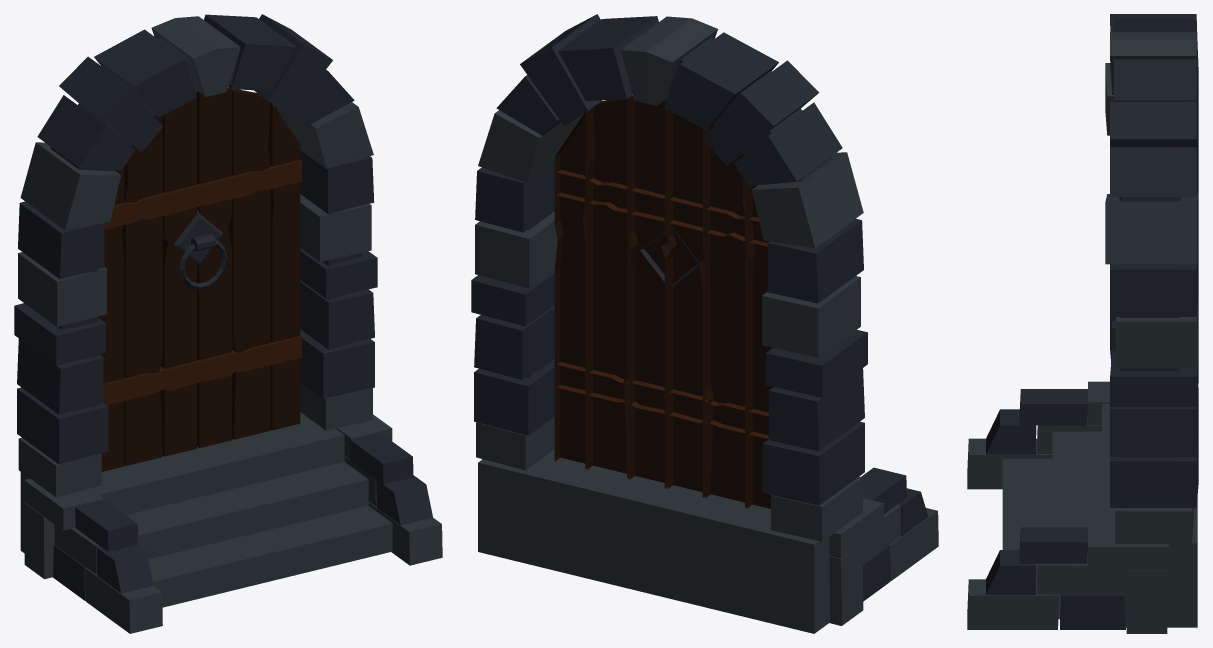
File: door.fbx
The picture shows the model from 3 angles, left to right: view 1: azimuth 30°, elevation 25°; view 2: azimuth 150°, elevation 25°; view 3: azimuth 270°, elevation 25°; orthographic projection. The views are drawn at different scales.
Visible parts, largest first — view 1: Door_Round, Door; view 2: Door_Round, Door; view 3: Door_Round.
Part boxes in pixels (x1=…): Door_Round: x1=14, y1=14, x2=442, y2=633; Door: x1=98, y1=87, x2=302, y2=471; Door_Round: x1=471, y1=14, x2=938, y2=633; Door: x1=554, y1=95, x2=773, y2=508; Door_Round: x1=967, y1=14, x2=1198, y2=633.
Size of the model in its own units: 0.5014 by 0.7226 by 0.2964.
